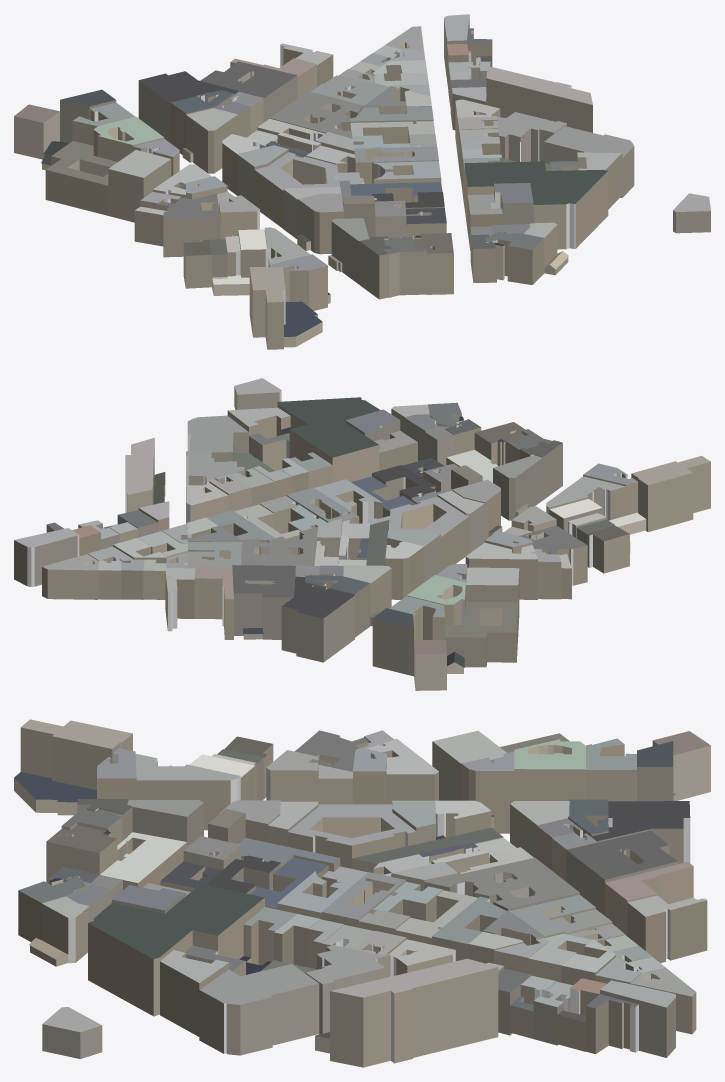
3 renders of one model, top to bottom at view 1: azimuth 30°, elevation 25°; view 2: azimuth 150°, elevation 25°; view 3: azimuth 270°, elevation 25°, orthographic. The views are drawn at different scales.
Parts seen in each view (by area): view 1: tuile; view 2: tuile; view 3: tuile.
Boxes of the visible parts, x1=… form: tuile: x1=14, y1=14, x2=710, y2=349; tuile: x1=14, y1=378, x2=710, y2=690; tuile: x1=14, y1=719, x2=710, y2=1067.
Bounding box in the file's own units: 271 × 31.87 × 272.
